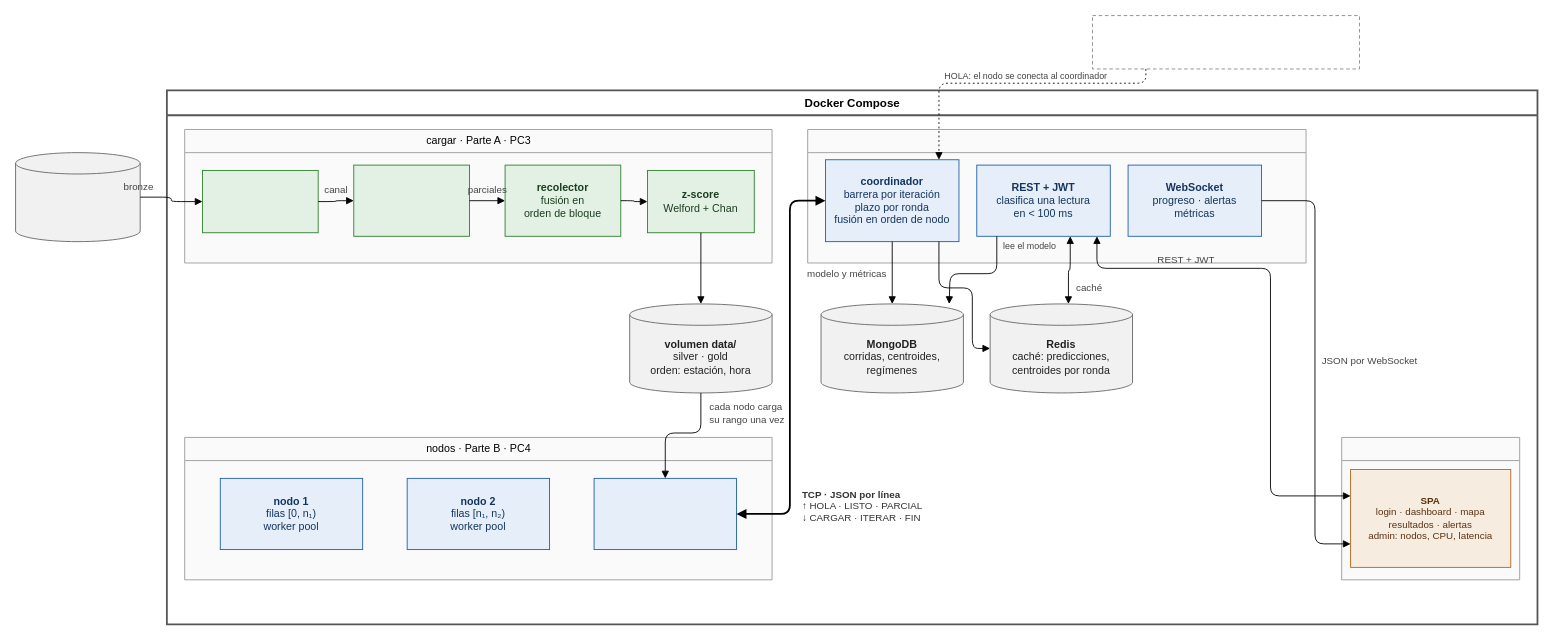
Some shapes in this 1554 by 641 pixel diagram are drawn without their labels. Each missing label, with the box of its shape:
api · Parte C · PC4: (807, 129, 1306, 263)
CSV de OEFA 1,3 GB · formato largo 33 estaciones: (15, 152, 140, 242)
lector bloques de 64 MB: (202, 170, 318, 233)
Medición extra · PC4 nodos físicos del grupo por VPN y un nodo en Colab: (1092, 15, 1359, 69)
nodo K filas [nₖ₋₁, N) worker pool: (593, 477, 736, 550)
W workers reglas 1–6 pivot por bloque: (353, 164, 469, 236)
web · Parte D · TB2: (1341, 437, 1520, 580)
